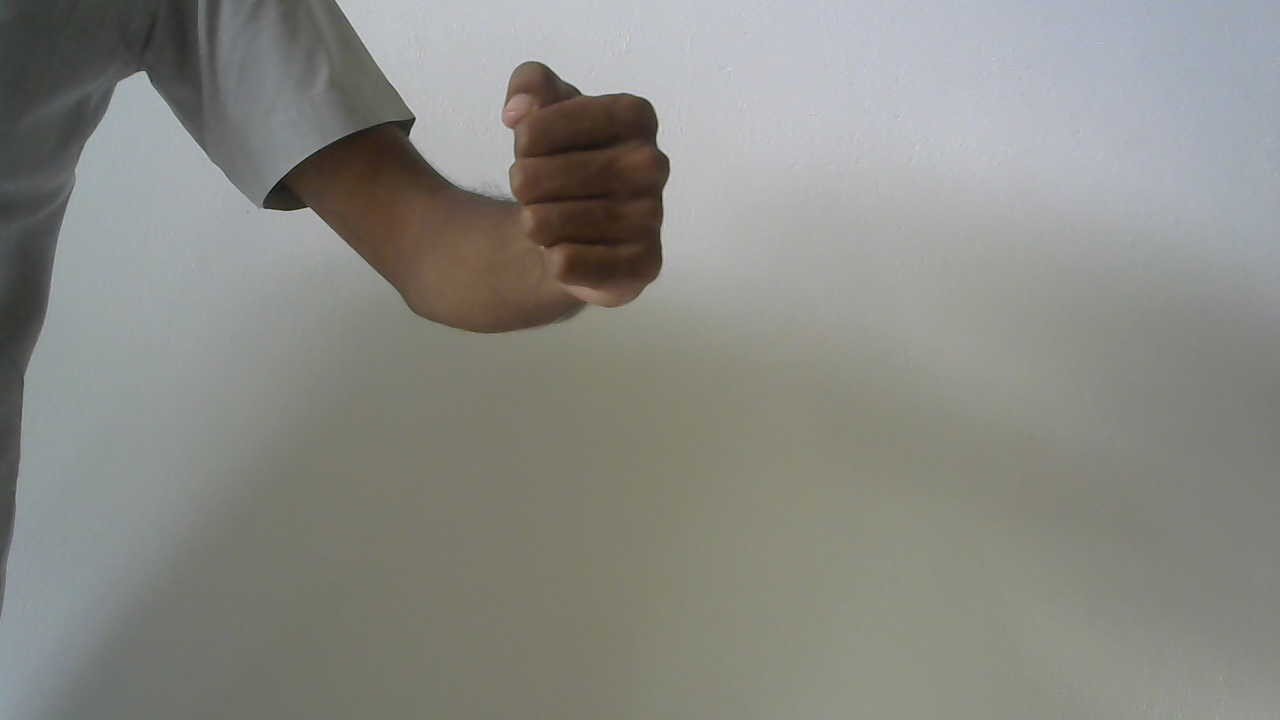yes: (478, 31, 714, 343)
